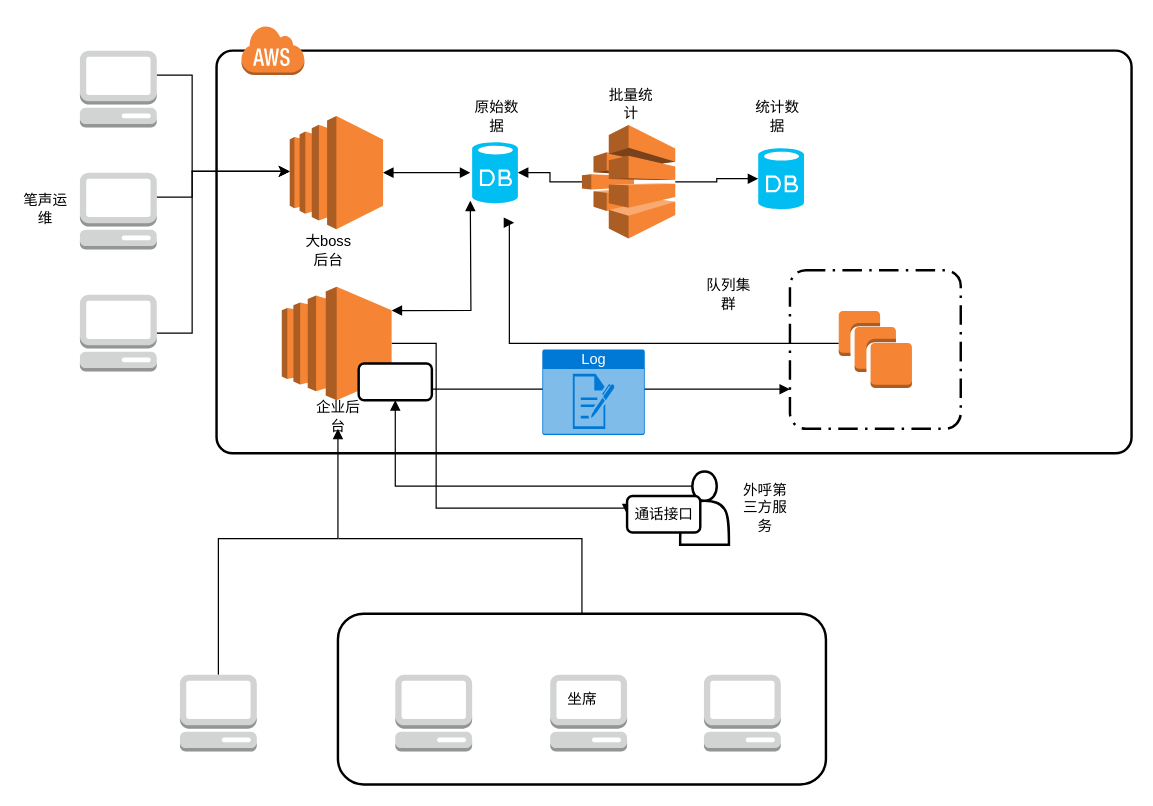
The diagram is 1153 pixels wide and 806 high, and some of its shapes have lost their labels. The shapes that lost their labels are listed below. From the top down, each one's box as (x1, y1, x2, y2) in pixels, then its label:
(357, 362, 432, 401): 通话回调
(176, 670, 260, 755): 企业管理
